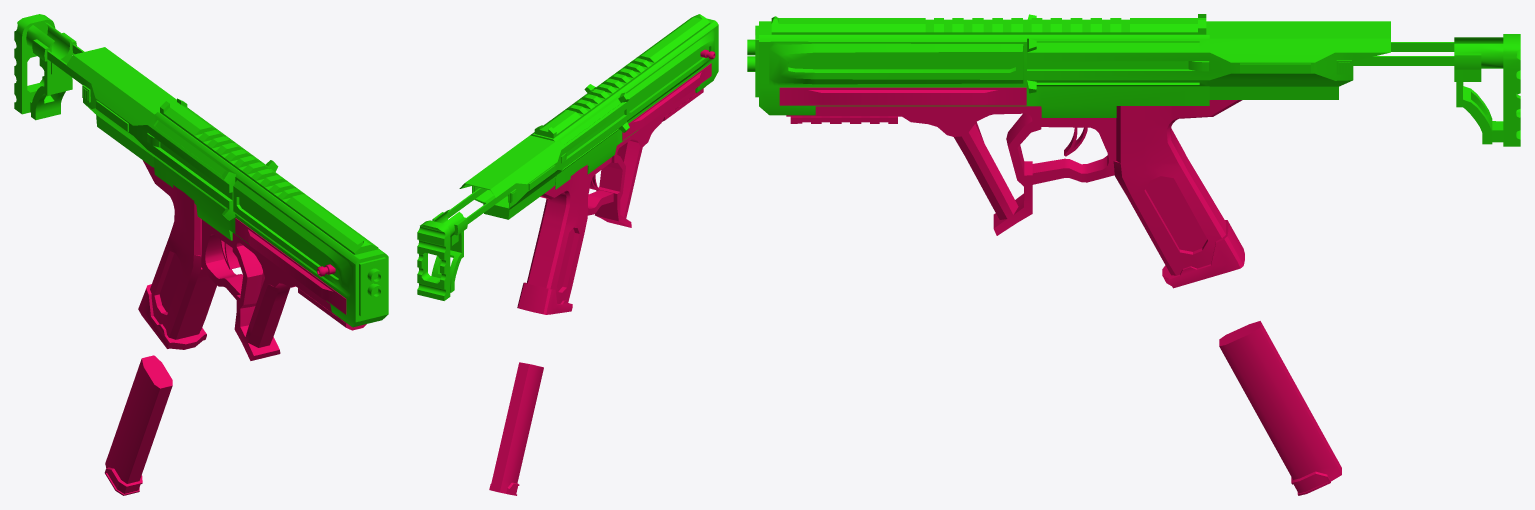
The model's file is HandsPPReload.fbx.
3 renders of one model, left to right at view 1: azimuth 30°, elevation 25°; view 2: azimuth 150°, elevation 25°; view 3: azimuth 270°, elevation 25°, orthographic. The views are drawn at different scales.
Parts seen in each view (by area): view 1: niz rukoyat, magazin, palki, zatvor; view 2: niz rukoyat, palki, magazin, zatvor; view 3: niz rukoyat, magazin, palki.
Boxes of the visible parts, <box> form: niz rukoyat: <box>66,47,388,360</box>; magazin: <box>104,355,172,495</box>; palki: <box>14,14,84,120</box>; zatvor: <box>239,197,338,278</box>; niz rukoyat: <box>459,14,718,314</box>; palki: <box>417,188,507,300</box>; magazin: <box>489,362,543,495</box>; zatvor: <box>629,47,715,111</box>; niz rukoyat: <box>747,14,1390,288</box>; magazin: <box>1219,321,1341,495</box>; palki: <box>1353,34,1520,146</box>.
Bounding box in the file's own units: 8.03 × 53.15 × 78.55.
